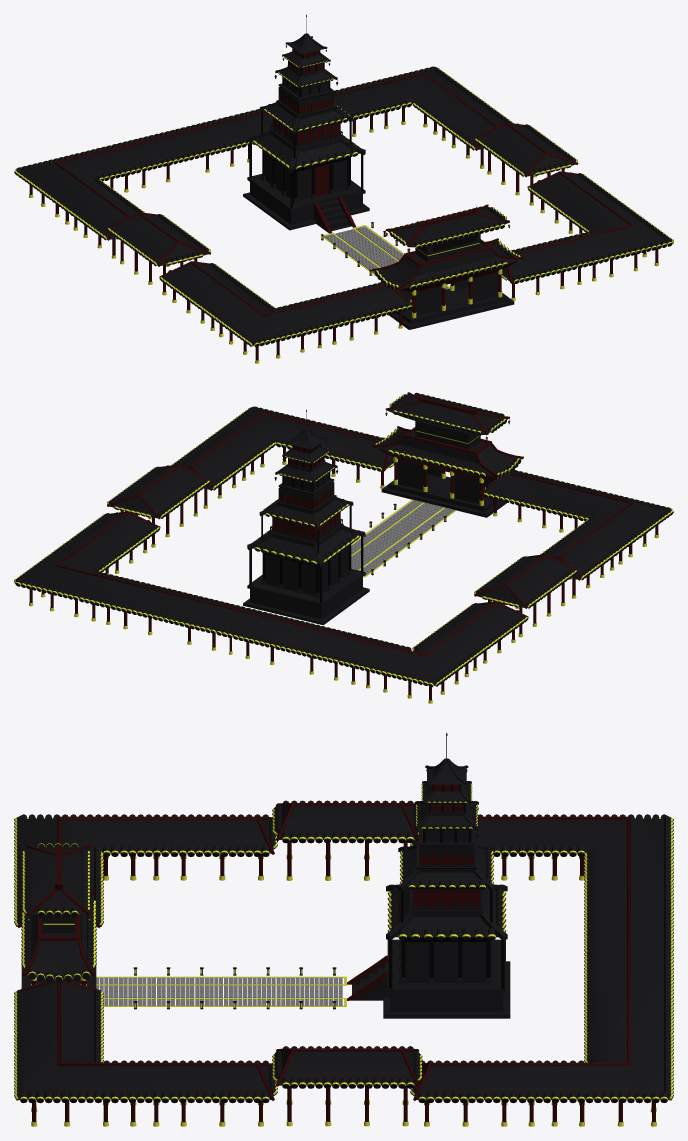
Rendered from Landmark.fbx.
3 renders of one model, top to bottom at view 1: azimuth 30°, elevation 25°; view 2: azimuth 150°, elevation 25°; view 3: azimuth 270°, elevation 25°, orthographic. The views are drawn at different scales.
Parts seen in each view (by area): view 1: Box025, Landmark, Cylinder004, Box026, Object004; view 2: Box025, Landmark, Cylinder004, Box026, Object004; view 3: Box025, Landmark, Box026, Cylinder004, Object004.
Part boxes in pixels (x1=…): Box025: x1=14, y1=66, x2=673, y2=363; Landmark: x1=243, y1=14, x2=369, y2=233; Cylinder004: x1=372, y1=204, x2=523, y2=329; Box026: x1=107, y1=122, x2=578, y2=295; Object004: x1=323, y1=225, x2=449, y2=289; Box025: x1=14, y1=406, x2=673, y2=703; Landmark: x1=243, y1=409, x2=369, y2=625; Cylinder004: x1=372, y1=392, x2=523, y2=517; Box026: x1=107, y1=464, x2=578, y2=637; Object004: x1=351, y1=499, x2=456, y2=577; Box025: x1=14, y1=814, x2=673, y2=1126; Landmark: x1=347, y1=732, x2=510, y2=1018; Box026: x1=272, y1=800, x2=422, y2=1126; Cylinder004: x1=21, y1=843, x2=96, y2=988; Object004: x1=96, y1=976, x2=346, y2=1006.
Size of the model in its own units: 809 by 346 by 794.
